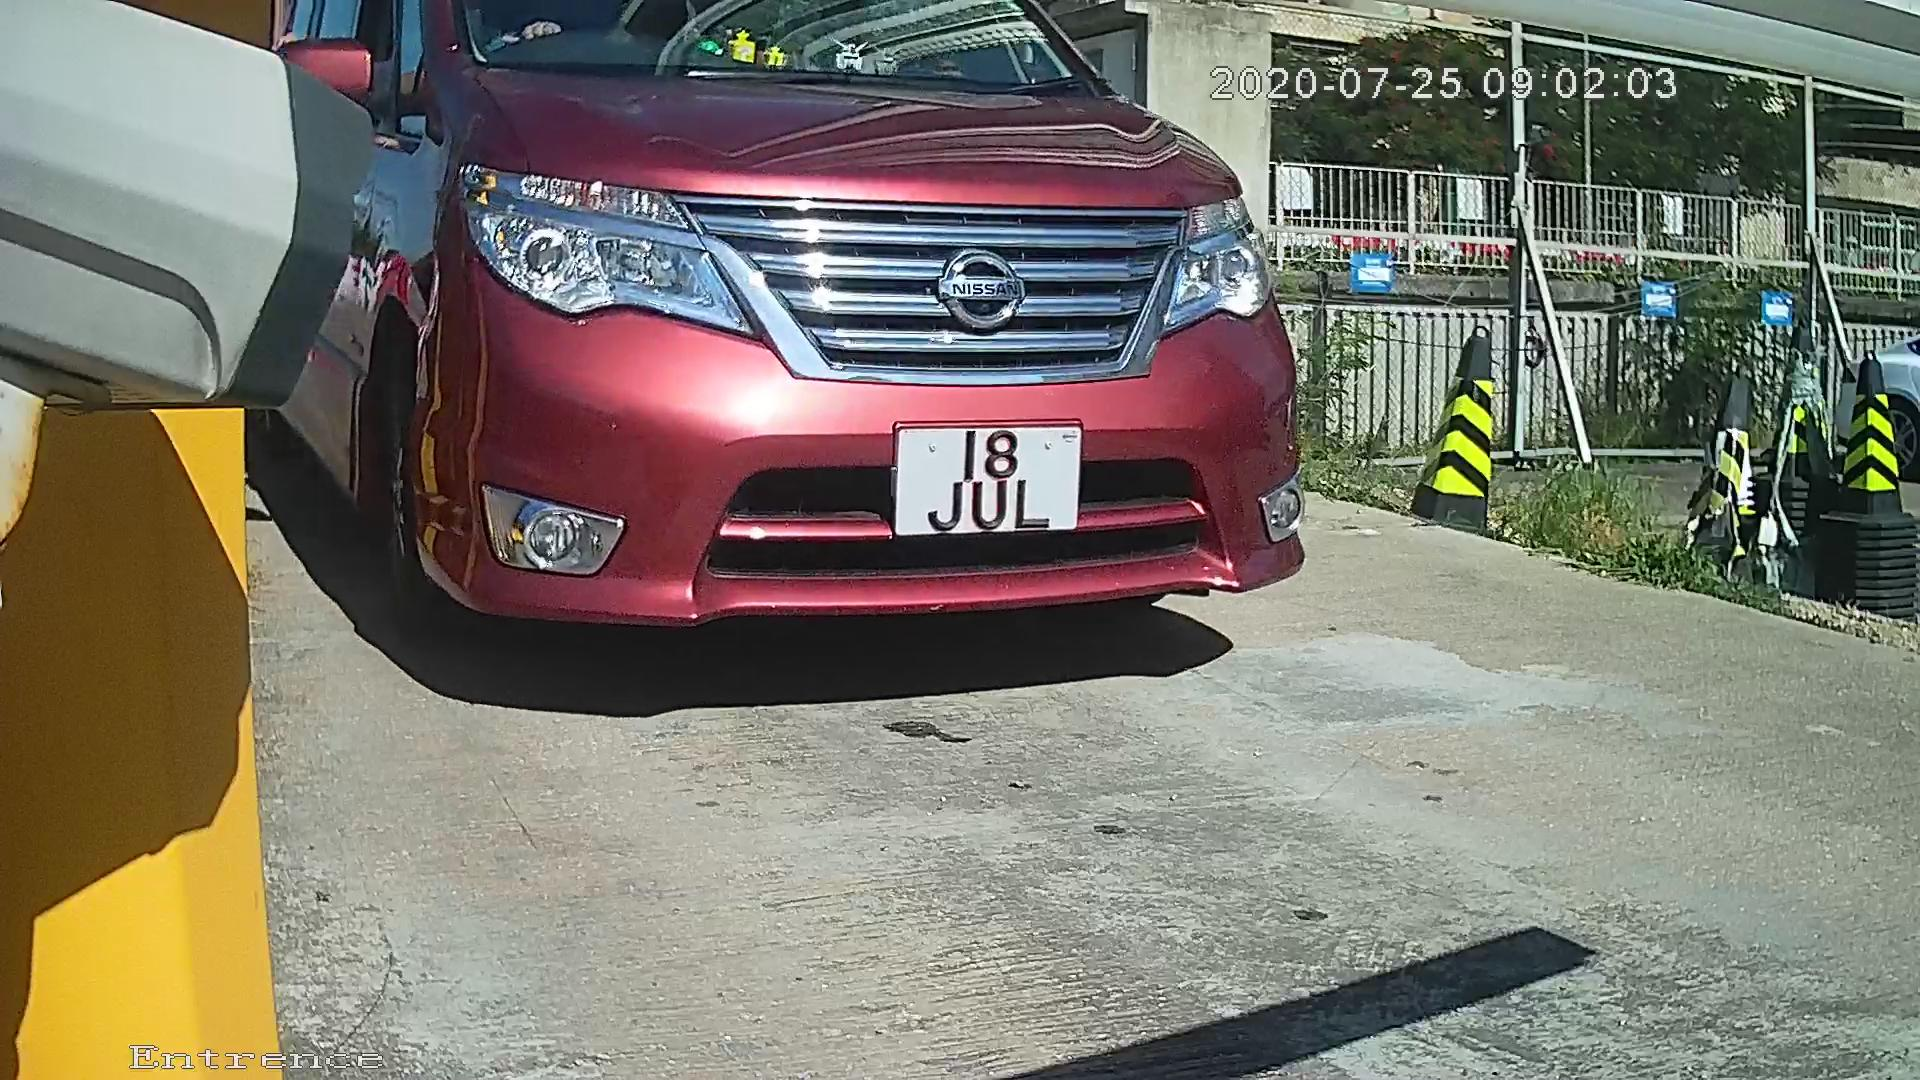Car: (18, 1, 1483, 762)
License Plate: (866, 406, 1089, 545)
